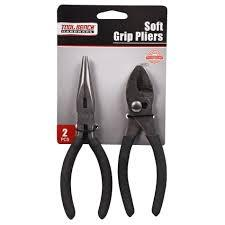pliers: (58, 53, 112, 222), (116, 63, 167, 217)
